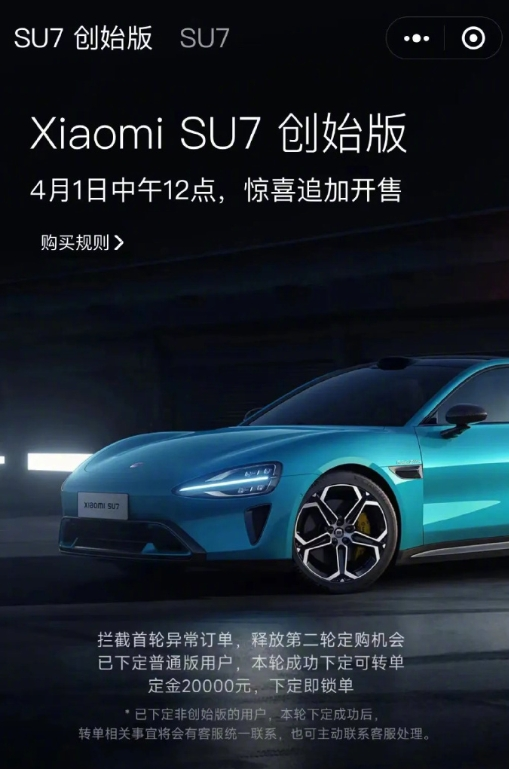su7: (70, 341, 509, 578)
